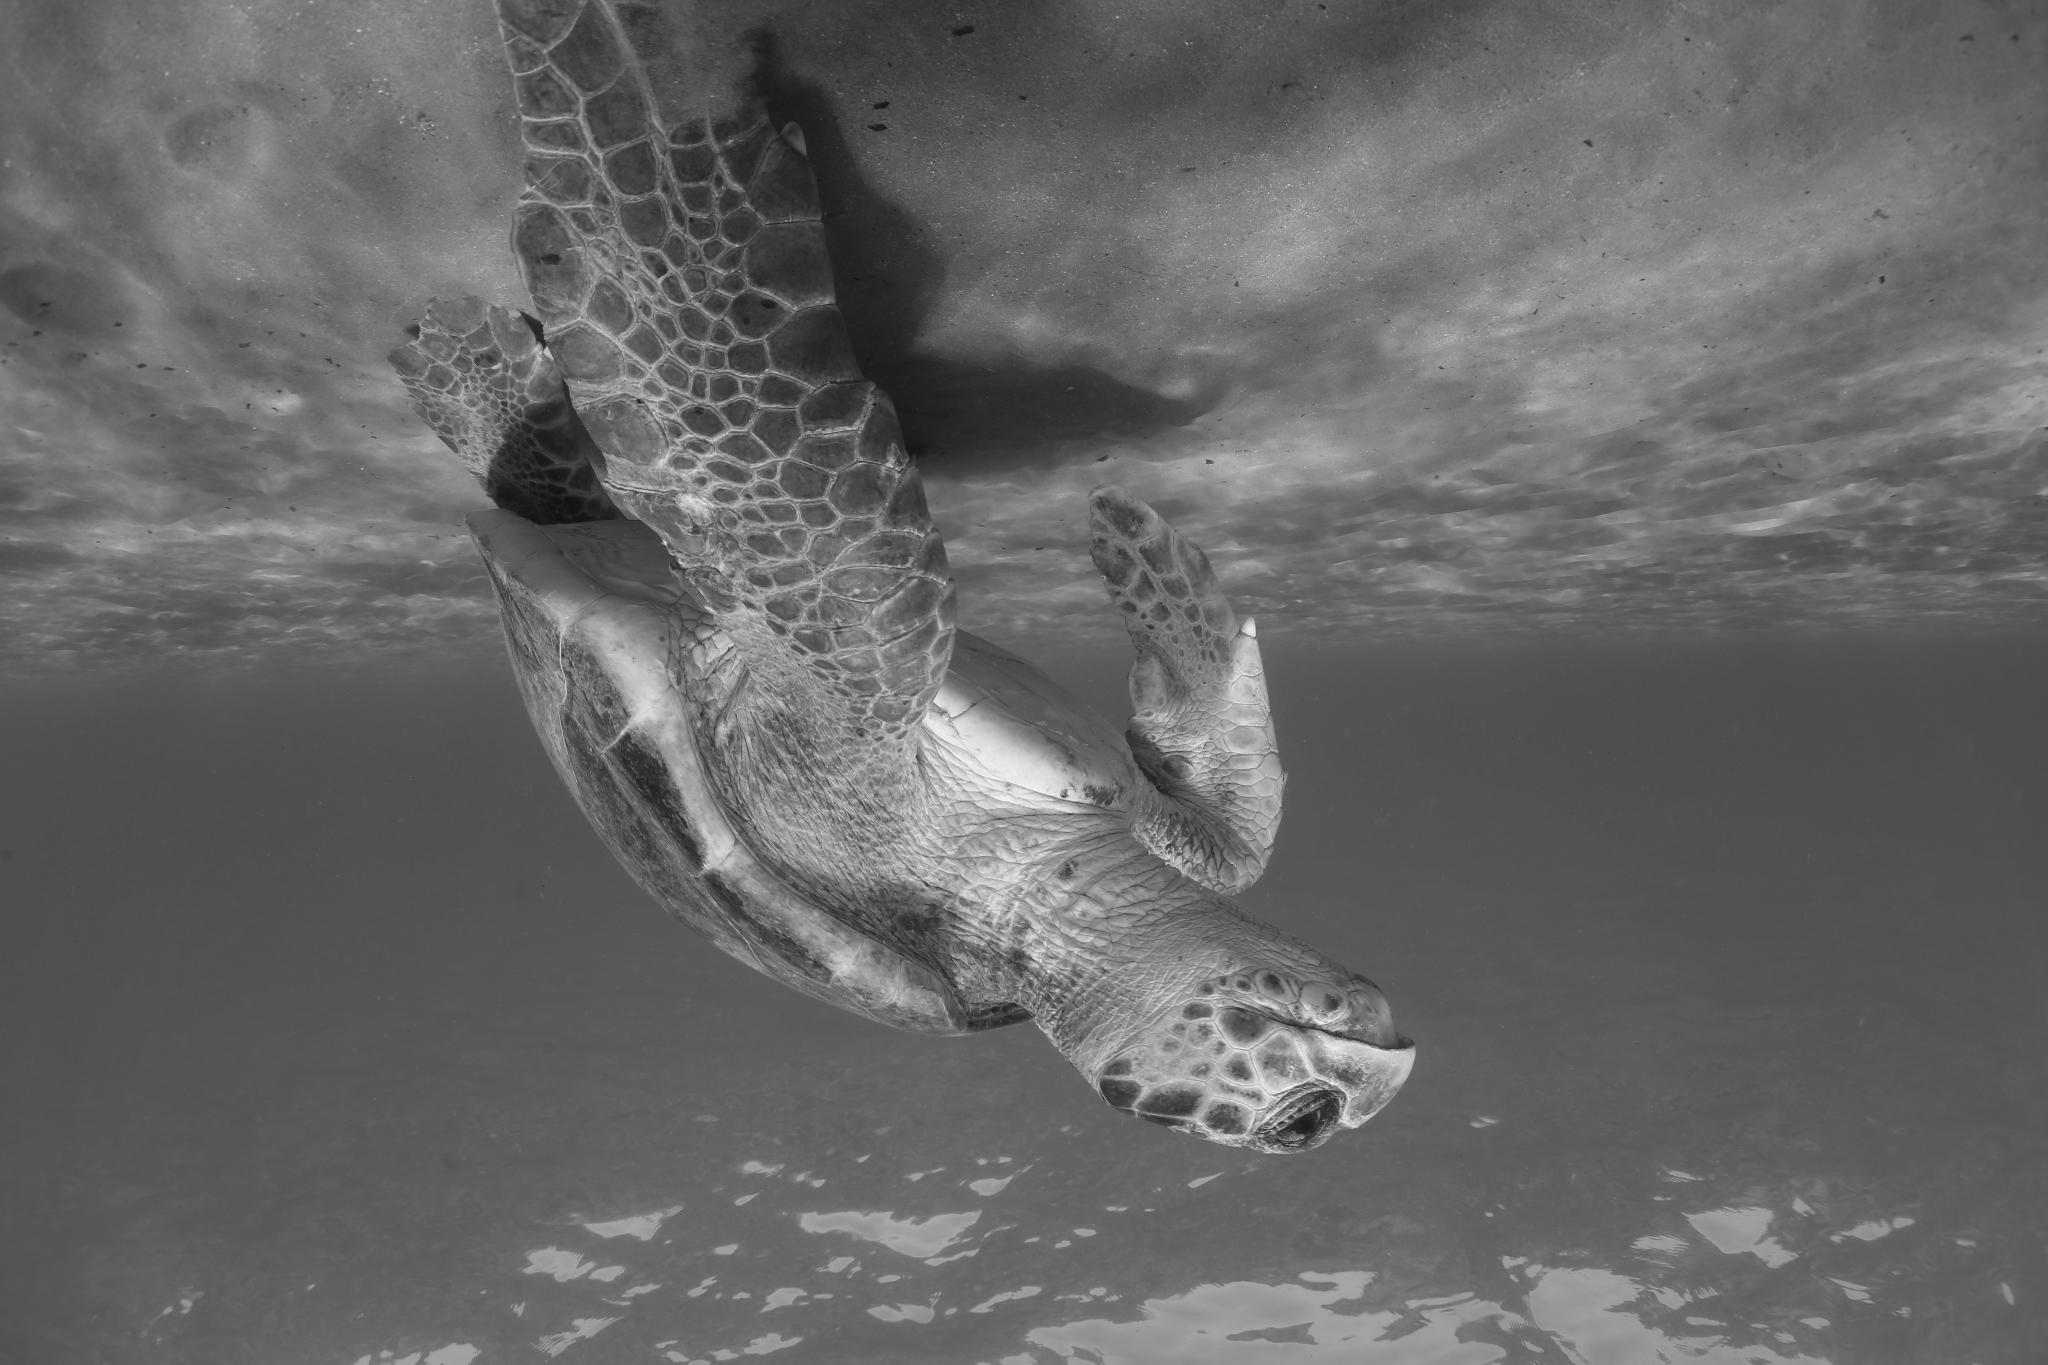Head: (1016, 892, 1415, 1153)
